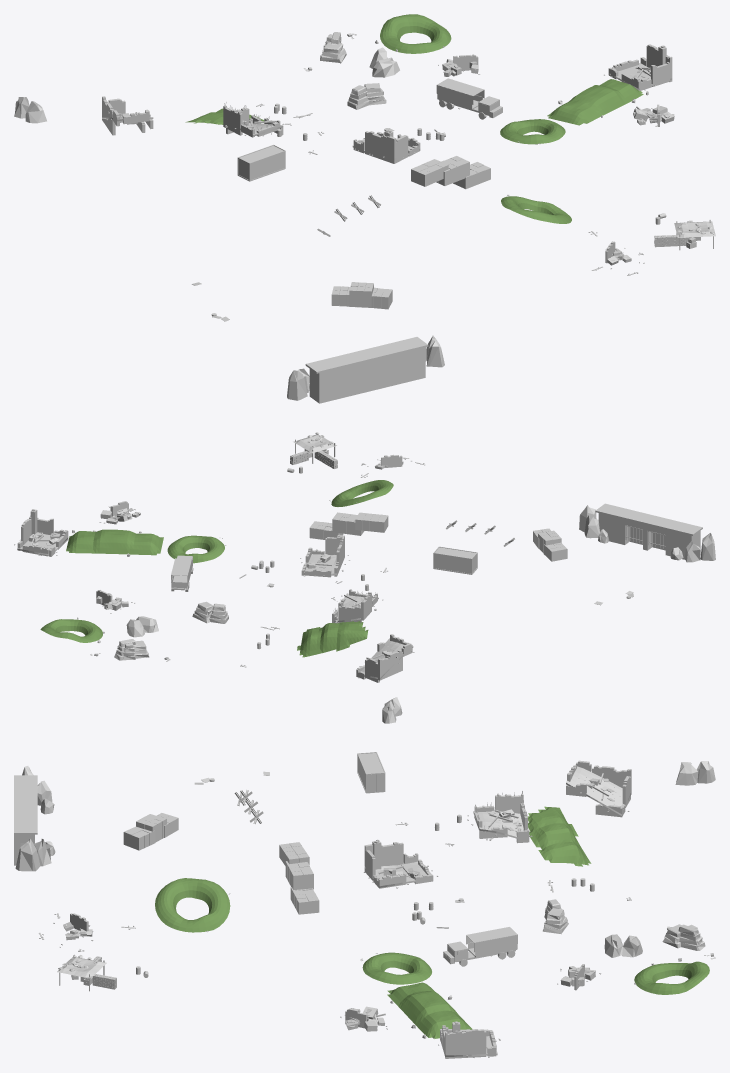
File: outdoor_13.glb
3 views of the same model, one above another, from view 1: azimuth 30°, elevation 25°; view 2: azimuth 150°, elevation 25°; view 3: azimuth 270°, elevation 25° (orthographic). The views are drawn at different scales.
Parts seen in each view (by area): view 1: gas_station_town; view 2: gas_station_town; view 3: gas_station_town.
Part boxes in pixels (box(x1,y1,x2,y2)): gas_station_town: box(14, 14, 715, 403); gas_station_town: box(14, 432, 715, 723); gas_station_town: box(14, 752, 715, 1058).
Bounding box in the file's own units: 87.94 × 14.26 × 86.42.
Materials: 2 (1 with a texture image).
